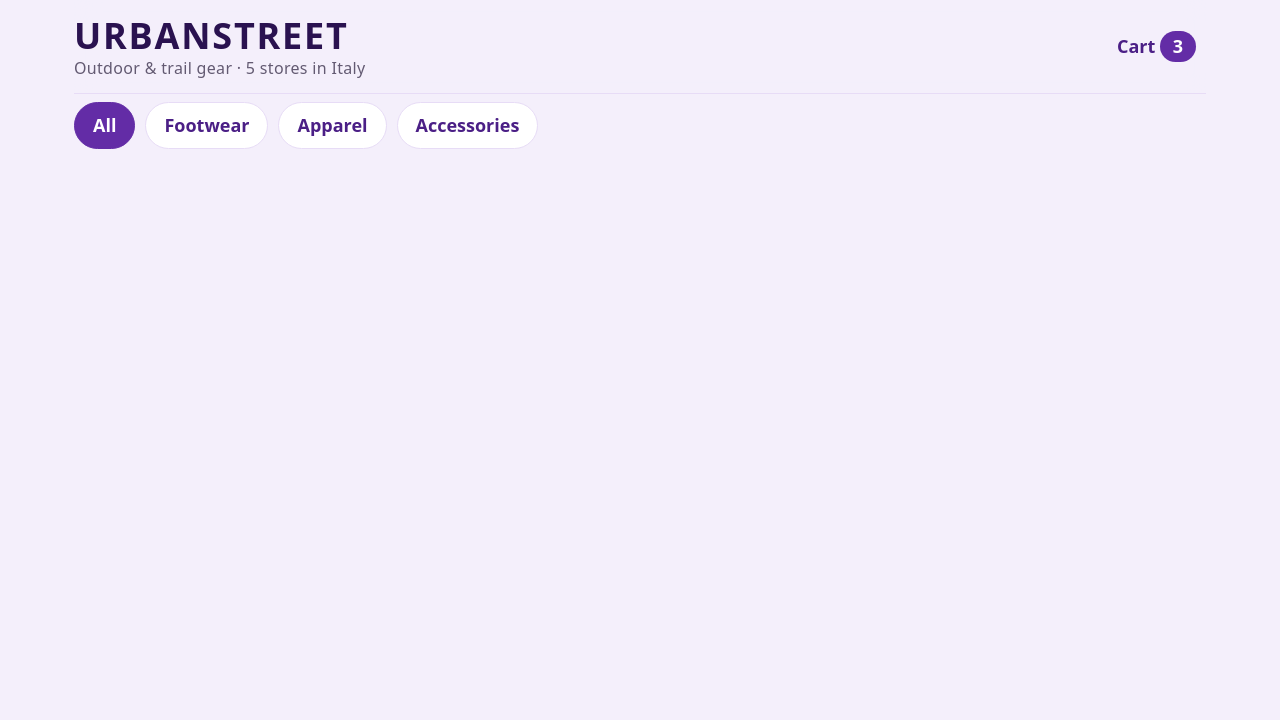
a sold-out item with nothing comparable › the drawer says so instead of listing alternatives, next to the two offers
The image size is (1280, 720).
Check: the text with test id "cart-count" reads "3", box [1173, 34, 1183, 58]
What coordinates should you click on to do the following:
click the button "Cart 3"
I would click on:
 (1156, 47)
Its box is [1107, 25, 1206, 68].
(page scrolled)
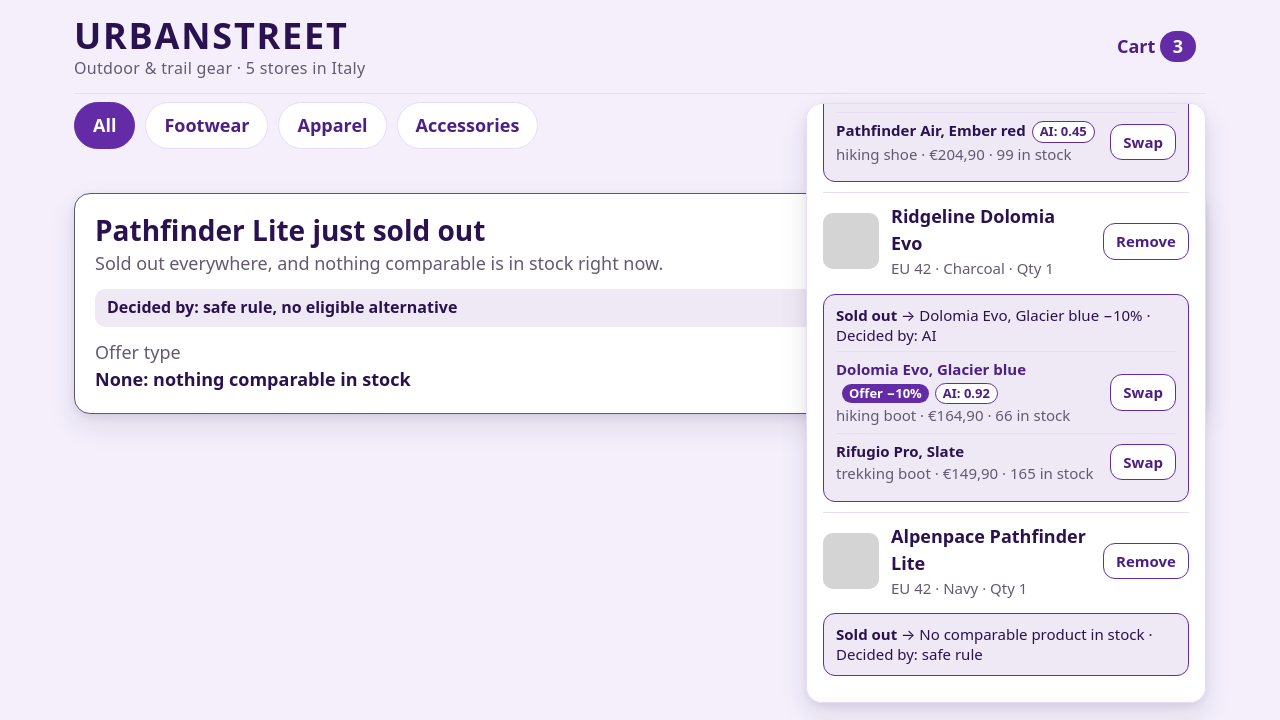
Check: the element with test id "cart-offer-line" reads "Sold out → No comparable product in stock · Decided by: safe rule", box [836, 624, 1176, 665]
